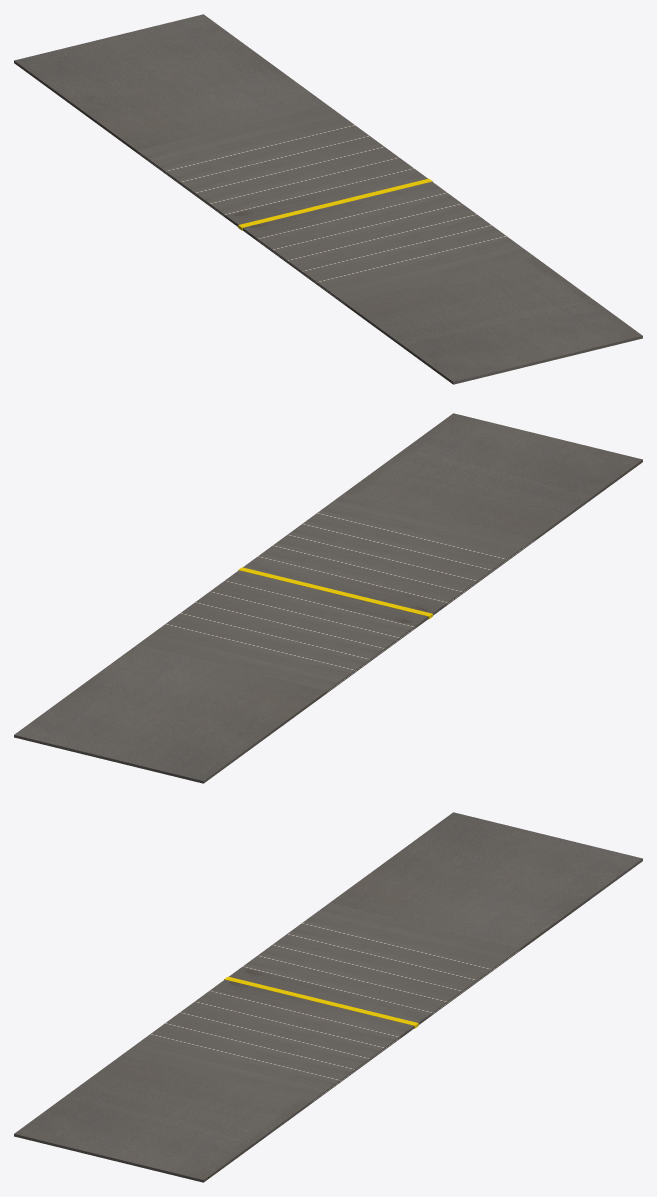
File: WIDEROAD.fbx
The picture shows the model from 3 angles, top to bottom: view 1: azimuth 30°, elevation 25°; view 2: azimuth 150°, elevation 25°; view 3: azimuth 330°, elevation 25°; orthographic projection.
Parts seen in each view (by area): view 1: Road 2.001, Road 2, Road Middle.001; view 2: Road 2.001, Road 2, Road Middle.001; view 3: Road 2.001, Road 2, Road Middle.001.
Boxes of the visible parts, <box> form: Road 2.001: <box>14,14,427,226</box>; Road 2: <box>242,181,642,384</box>; Road Middle.001: <box>238,178,432,230</box>; Road 2.001: <box>14,570,428,783</box>; Road 2: <box>243,413,642,615</box>; Road Middle.001: <box>238,567,432,619</box>; Road 2.001: <box>229,812,642,1024</box>; Road 2: <box>14,979,414,1182</box>; Road Middle.001: <box>224,976,418,1028</box>.
Bounding box in the file's own units: 773 × 11.34 × 3082.
2 materials, 1 textured.
